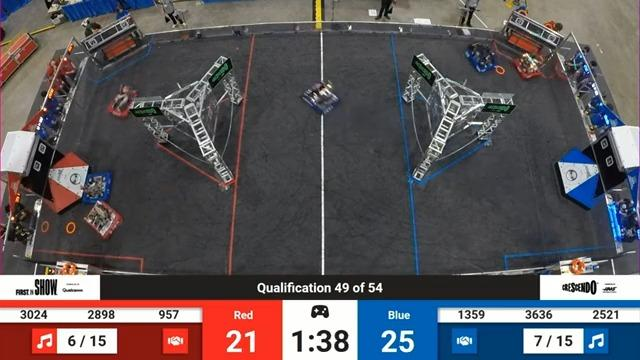robot: (296, 74, 344, 119), (84, 199, 126, 247), (457, 35, 501, 73), (105, 81, 138, 123), (510, 52, 546, 89), (73, 175, 114, 204)
